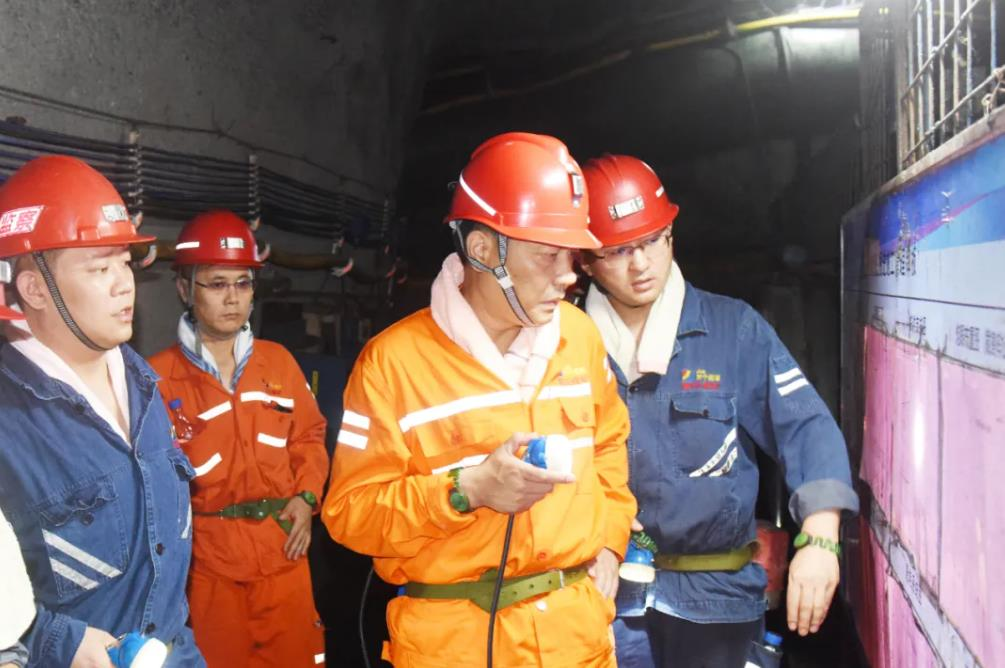helmet: (4, 150, 160, 358), (435, 129, 592, 326), (576, 144, 684, 307), (164, 209, 279, 334)
